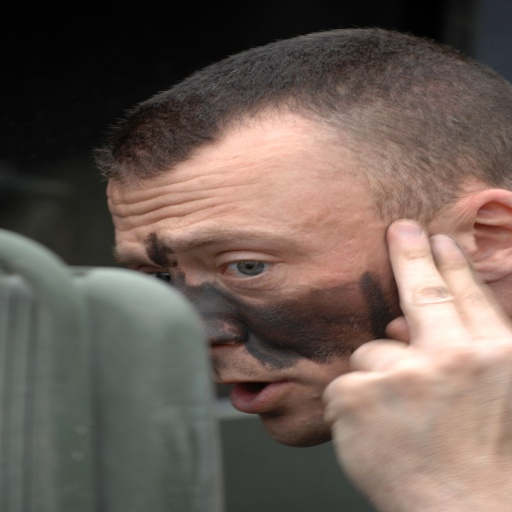hand: (324, 200, 508, 497)
